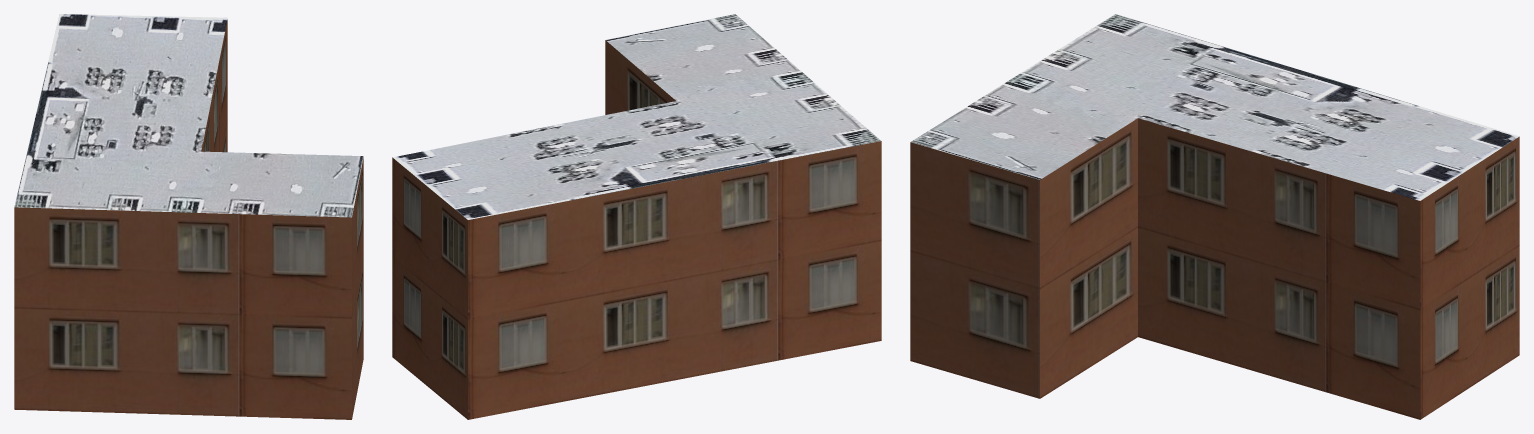
Rendered from ResTex__5062.fbx.
The picture shows the model from 3 angles, left to right: view 1: azimuth 30°, elevation 25°; view 2: azimuth 150°, elevation 25°; view 3: azimuth 270°, elevation 25°; orthographic projection. The views are drawn at different scales.
Parts seen in each view (by area): view 1: CityEngineMaterial_20_m, CityEngineMaterial_4_m; view 2: CityEngineMaterial_20_m, CityEngineMaterial_4_m; view 3: CityEngineMaterial_20_m, CityEngineMaterial_4_m.
Part boxes in pixels (x1,y1,x2,y2): CityEngineMaterial_20_m: [14, 19, 363, 419]; CityEngineMaterial_4_m: [14, 14, 363, 217]; CityEngineMaterial_20_m: [392, 40, 881, 419]; CityEngineMaterial_4_m: [393, 14, 880, 219]; CityEngineMaterial_20_m: [910, 118, 1519, 419]; CityEngineMaterial_4_m: [910, 14, 1519, 200].
Bounding box in the file's own units: 10.99 × 6 × 15.13.
Materials: 2 (2 with a texture image).
